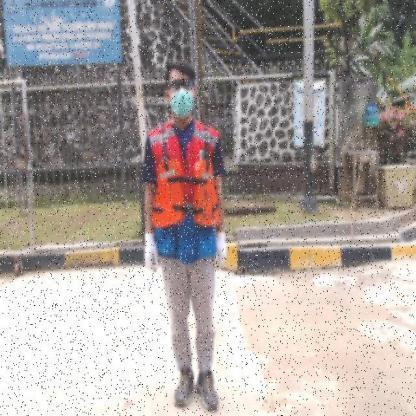boots: (196, 370, 219, 413), (173, 366, 196, 408)
gloves: (144, 233, 160, 273), (213, 232, 227, 271)
goggles: (168, 80, 194, 91)
mask: (168, 90, 194, 120)
vest: (151, 160, 221, 228)
